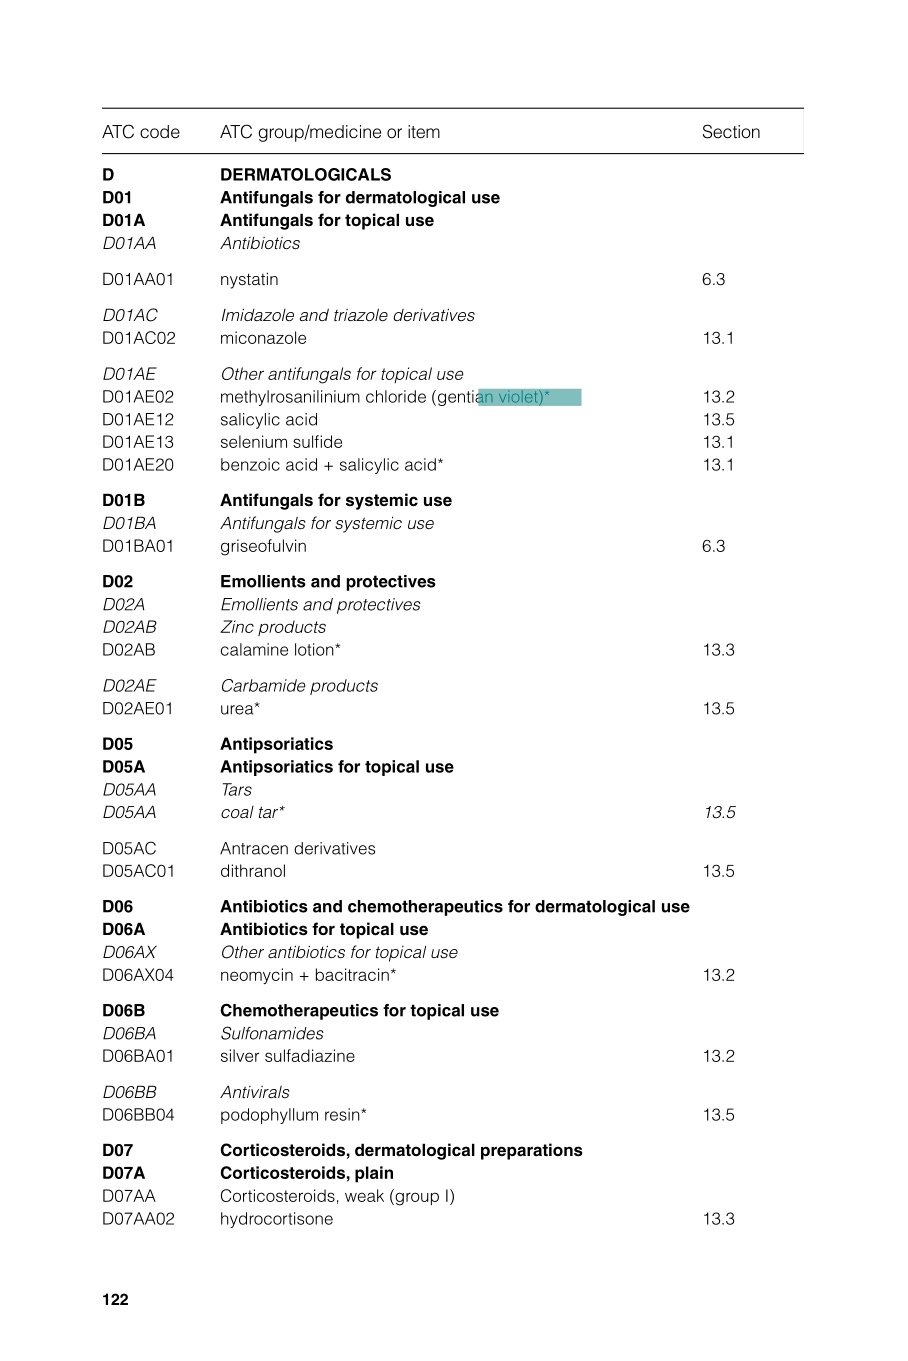partial_lined_merged_cells: (100, 106, 805, 1230)
